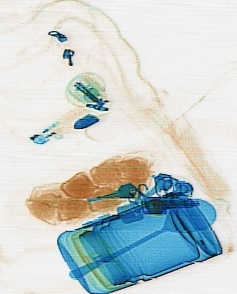lighter: (26, 102, 97, 145)
